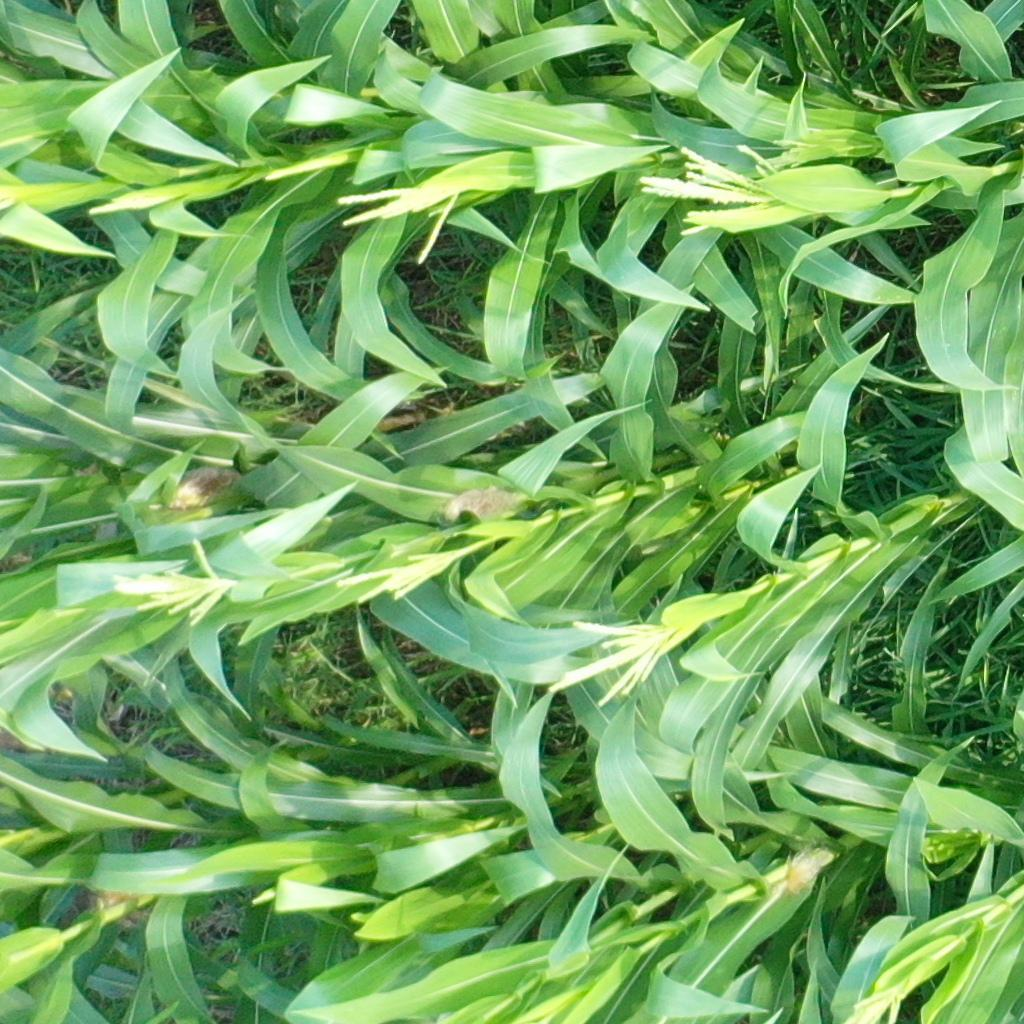Tassel: (629, 140, 787, 237), (107, 536, 247, 626), (544, 614, 678, 708), (329, 181, 467, 267), (333, 548, 477, 609), (842, 979, 903, 1024), (84, 190, 175, 220), (754, 136, 822, 172)
